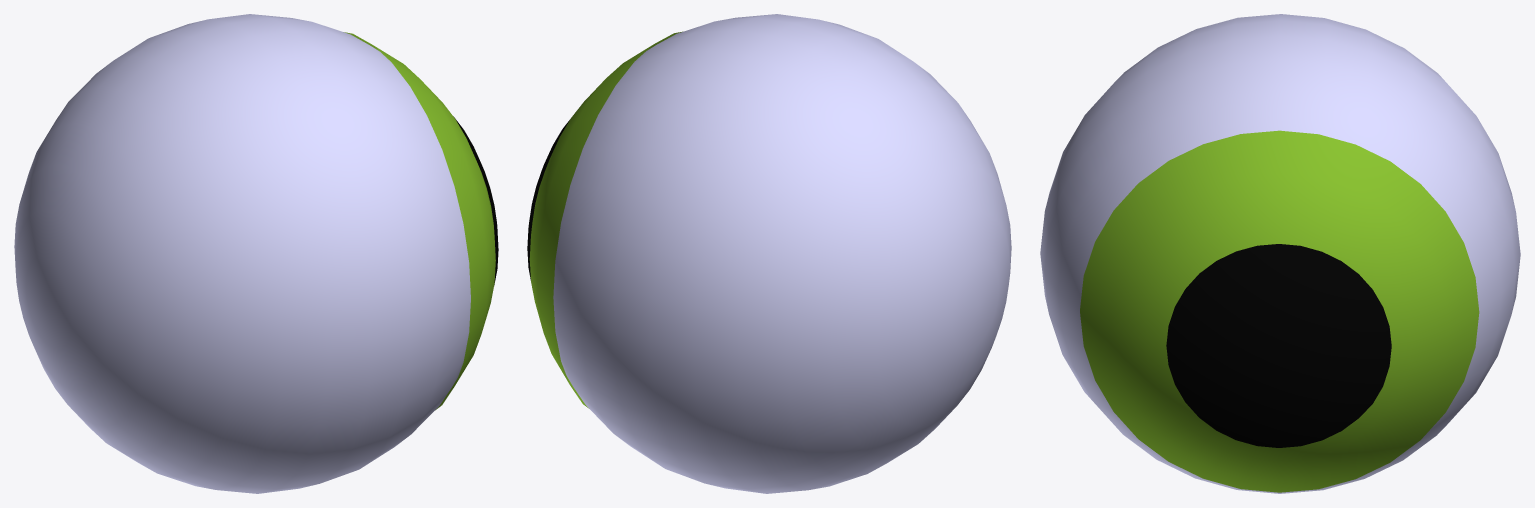
Rendered from Eye_Am_Sad_Babeh.fbx.
The picture shows the model from 3 angles, left to right: view 1: azimuth 30°, elevation 25°; view 2: azimuth 150°, elevation 25°; view 3: azimuth 270°, elevation 25°; orthographic projection.
Visible parts, largest first — view 1: Eye.001; view 2: Eye.001; view 3: Eye.001.
Boxes of the visible parts, box(x1,y1,x2,y2) form: Eye.001: box(14, 14, 498, 493); Eye.001: box(527, 14, 1011, 493); Eye.001: box(1040, 14, 1520, 493).
Bounding box in the file's own units: 61.1 × 60.24 × 60.24.
